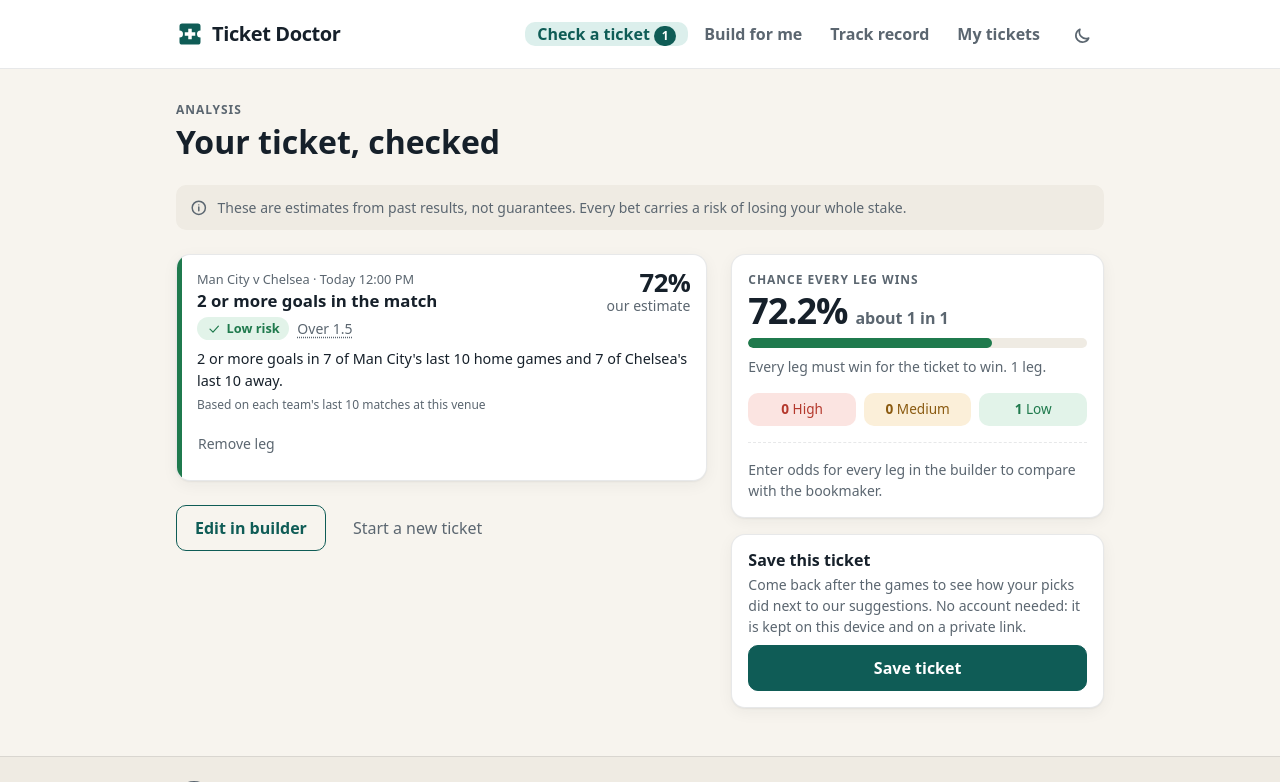
Scenario: Saved tickets (V2, FR-9) › saves an analysed ticket without an account and opens it from its link
What coordinates should you click on to do the following:
click the button "Save ticket"
I would click on:
 (918, 668)
Its box is [748,645,1087,691].
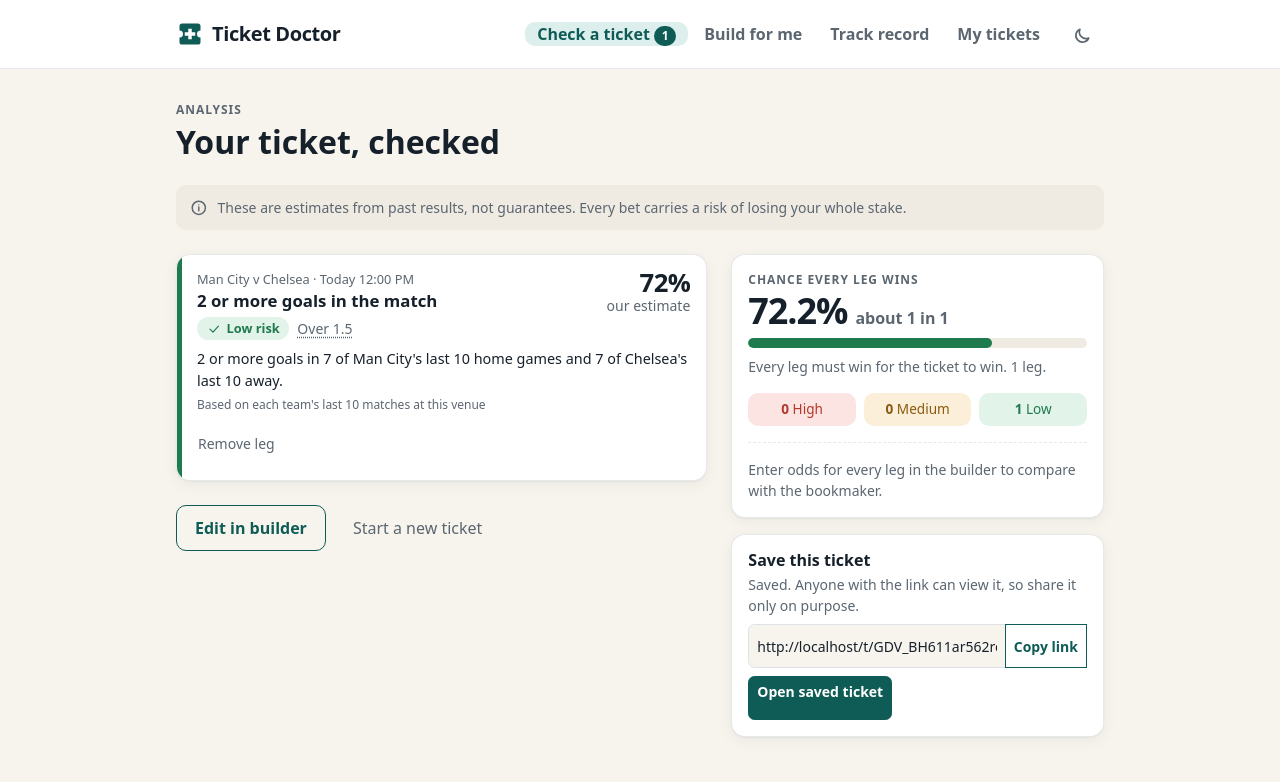
What coordinates should you click on to do the following:
click the link "Open saved ticket"
I would click on:
 (820, 698)
Its box is [748,676,892,720].
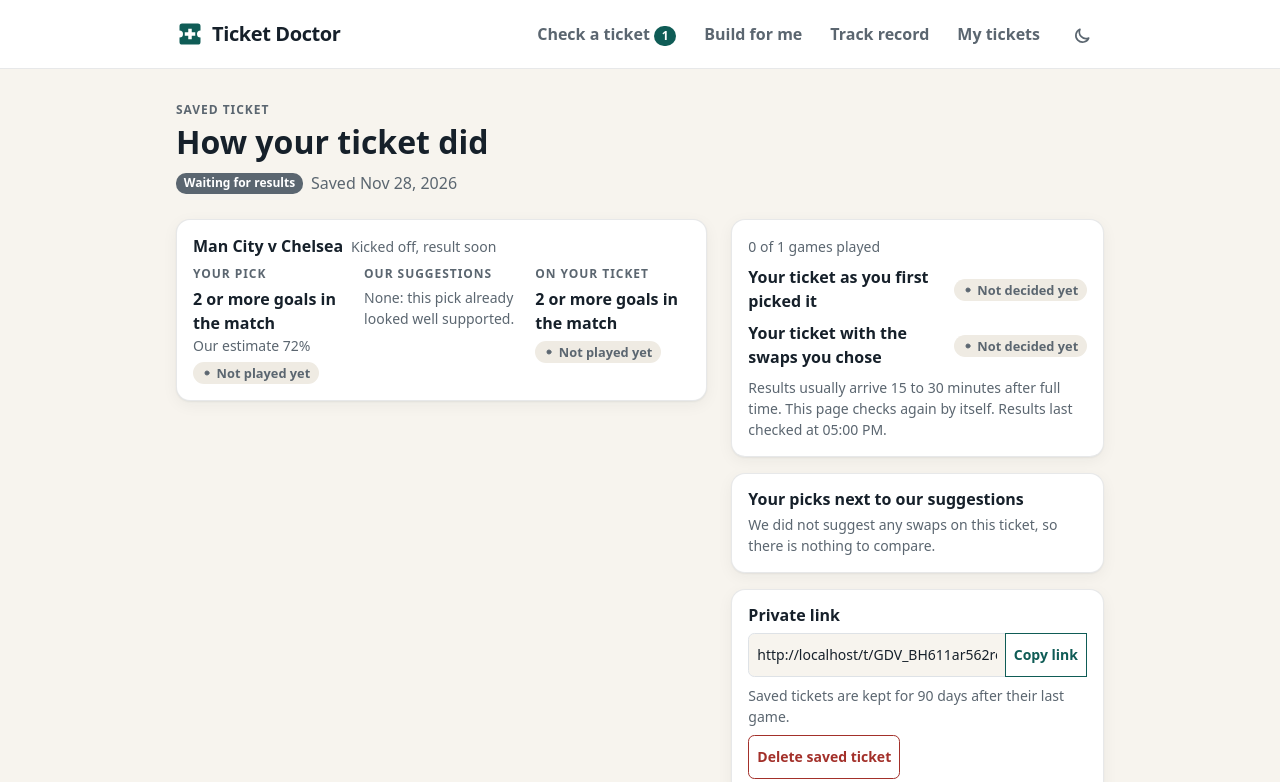
Expected: the heading "How your ticket did" is shown, [176,120,489,163]
Expected: the text "Waiting for results" is shown, [176,173,303,194]
Expected: the button "Delete saved ticket" is shown, [748,735,900,779]
